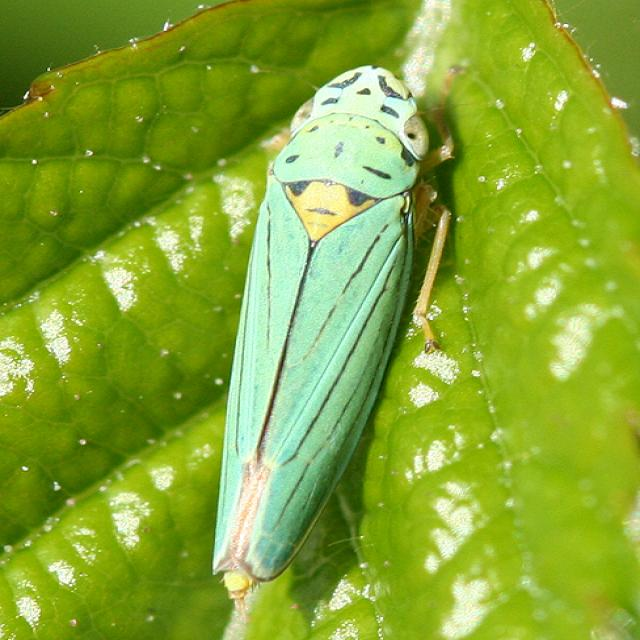Yechan: (198, 47, 448, 596)
